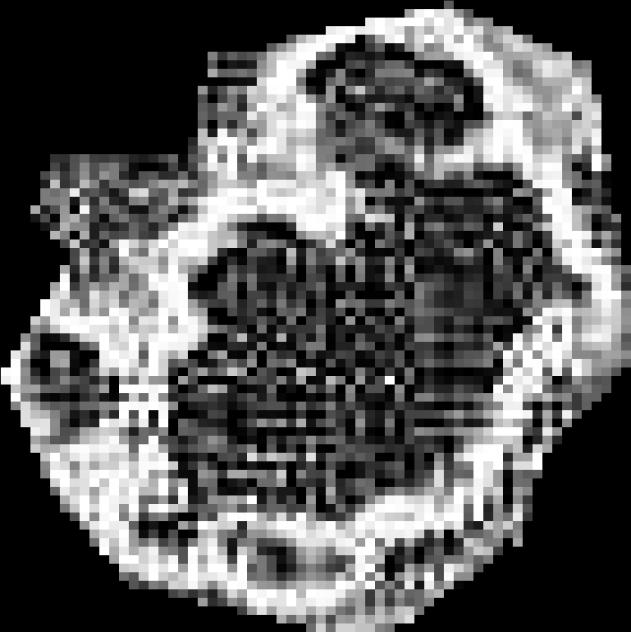tumor_good_chance: (1, 1, 631, 632)
